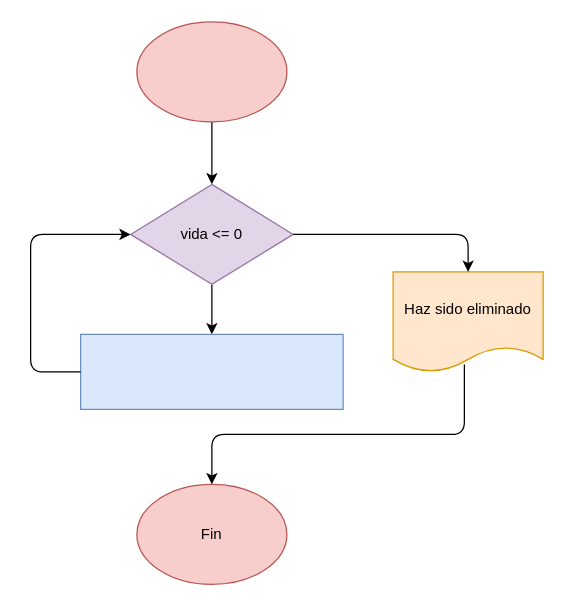
Some shapes in this 565 by 606 pixel diagram are drawn without their labels. Each missing label, with the box of its shape:
daño = random.randint(5,15) vida = daño - vida: (79, 333, 343, 409)
Inicio: (136, 21, 287, 122)
